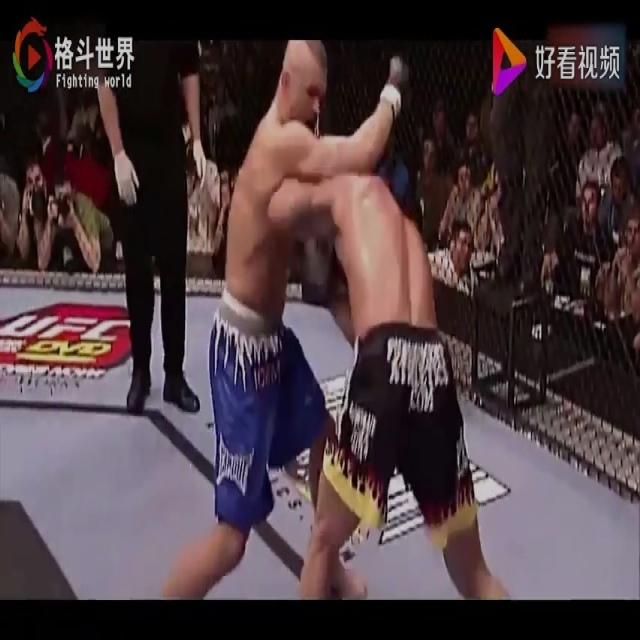fight: (159, 33, 516, 598)
non-fight: (96, 32, 207, 404)
